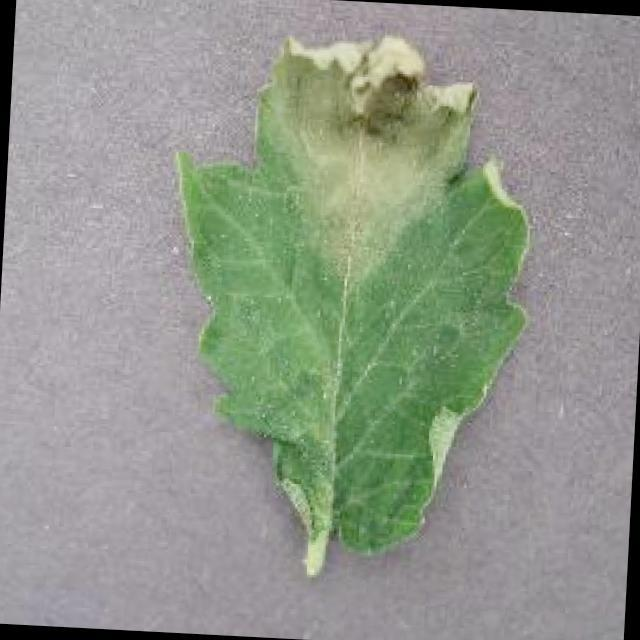Tomato late blight leaf: (152, 17, 548, 571)
